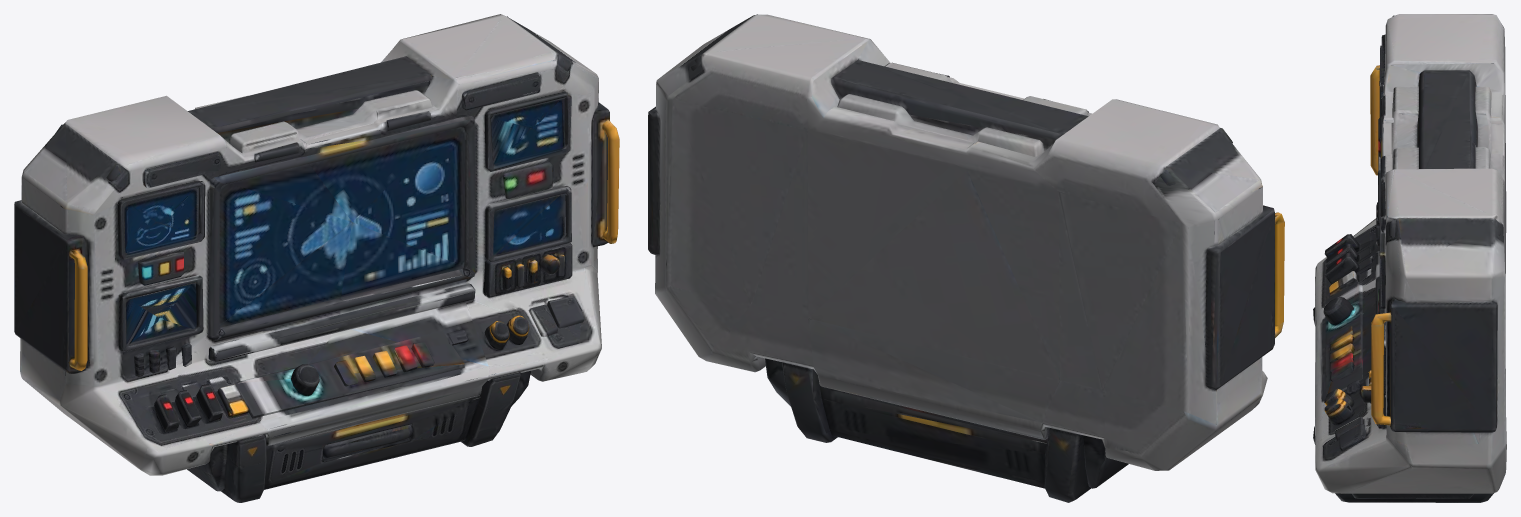
The model's file is obj_spaceship_console.glb.
3 views of the same model, side by side, from view 1: azimuth 30°, elevation 25°; view 2: azimuth 150°, elevation 25°; view 3: azimuth 270°, elevation 25° (orthographic). The views are drawn at different scales.
Size of the model in its own units: 1 by 0.6152 by 0.3262.
1 material, 1 textured.
